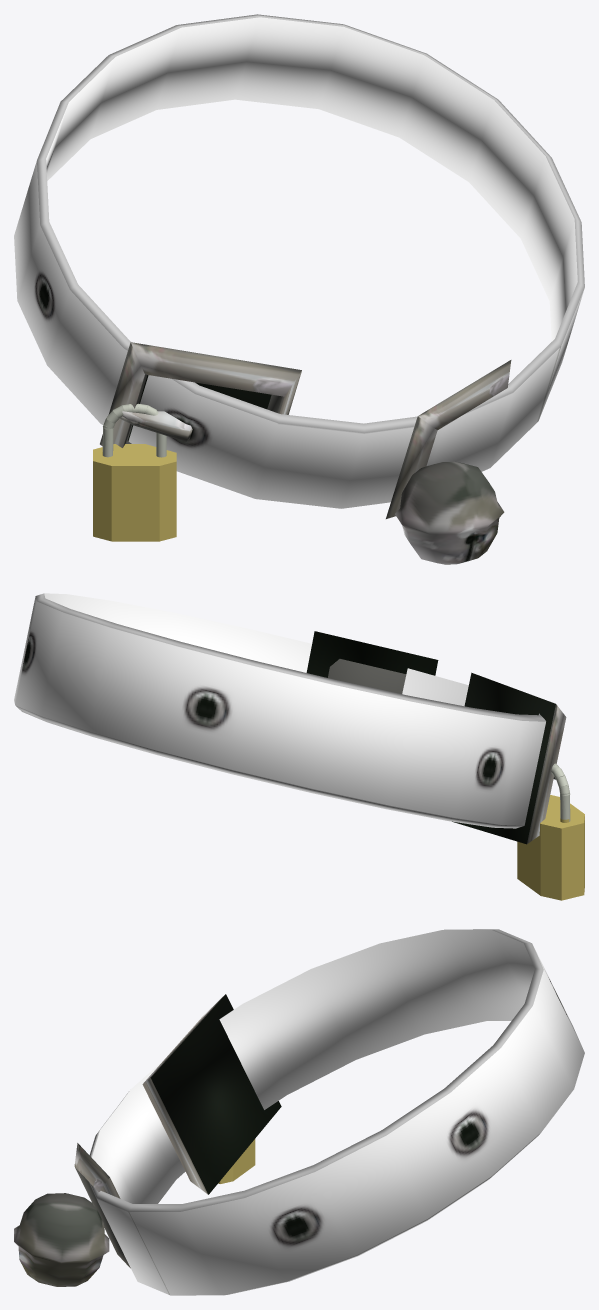
File: Collar-Kitty-Lock.fbx
3 renders of one model, top to bottom at view 1: azimuth 30°, elevation 25°; view 2: azimuth 150°, elevation 25°; view 3: azimuth 270°, elevation 25°, orthographic. The views are drawn at different scales.
Parts seen in each view (by area): view 1: カスタム少女_mesh, Cylinder.012, Cylinder.001; view 2: カスタム少女_mesh, Cylinder.012, Cylinder.001; view 3: カスタム少女_mesh, Cylinder.012.
Part boxes in pixels (<box>): カスタム少女_mesh: <box>14,14,584,564</box>; Cylinder.012: <box>93,444,176,541</box>; Cylinder.001: <box>102,403,166,457</box>; カスタム少女_mesh: <box>14,593,566,844</box>; Cylinder.012: <box>517,795,584,900</box>; Cylinder.001: <box>551,763,570,821</box>; カスタム少女_mesh: <box>14,929,584,1295</box>; Cylinder.012: <box>218,1139,255,1183</box>.
Bounding box in the file's own units: 11.18 × 7.24 × 12.1.
Materials: 4 (2 with a texture image).
